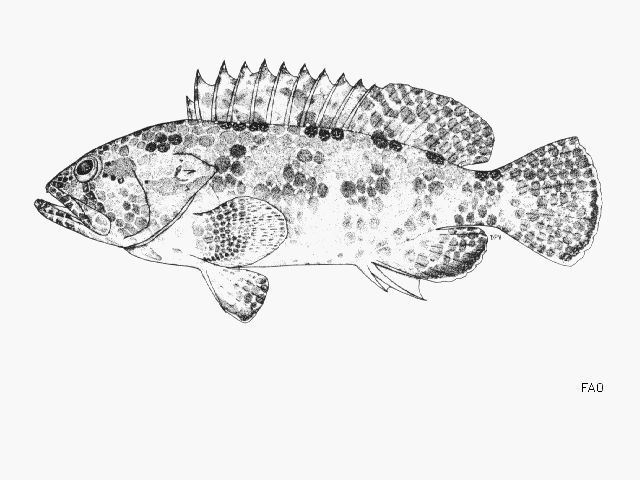fish: (34, 59, 603, 324)
